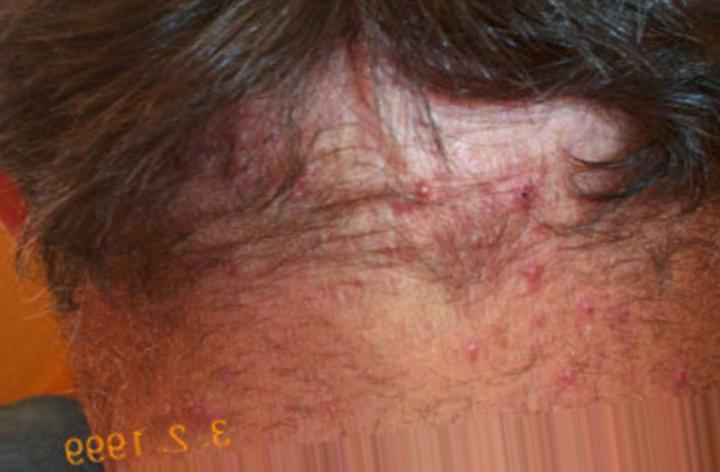Alopecia Areata: (424, 99, 637, 164)
Folliculitis: (516, 245, 561, 291), (513, 183, 552, 212), (456, 337, 493, 363), (569, 294, 605, 317), (557, 364, 582, 394), (669, 366, 695, 392), (412, 181, 436, 202)
